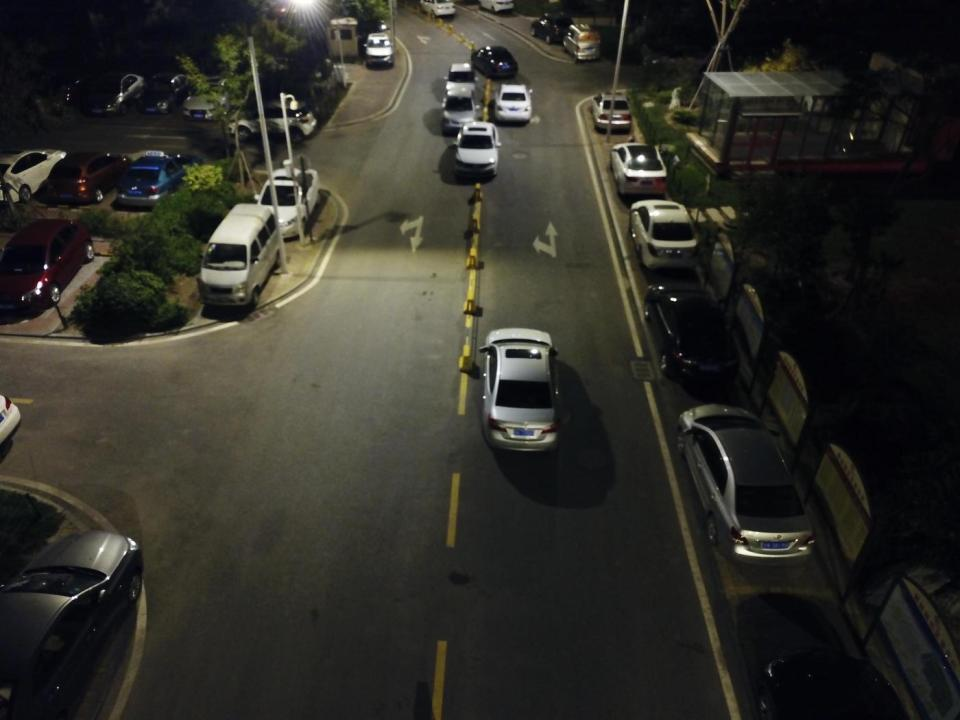car: (0, 532, 144, 720), (674, 405, 816, 567), (479, 327, 562, 454), (642, 281, 741, 385), (0, 219, 95, 314), (114, 149, 206, 209), (629, 198, 700, 272), (253, 165, 322, 240), (45, 150, 133, 204), (0, 147, 69, 205), (227, 100, 317, 144), (610, 142, 670, 197), (82, 71, 146, 116), (453, 121, 501, 177), (182, 73, 238, 120), (136, 72, 190, 115), (590, 90, 632, 131), (442, 88, 480, 132), (470, 45, 518, 79), (493, 83, 533, 123), (530, 12, 575, 44), (363, 31, 394, 66), (444, 62, 476, 94), (418, 0, 458, 19), (477, 0, 515, 14)
van: (198, 202, 284, 309), (562, 23, 601, 61)
